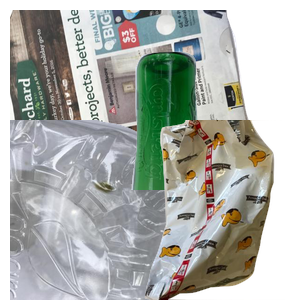glass: (129, 49, 300, 229)
paper: (10, 10, 250, 190)
plastic: (10, 120, 197, 300)
trash: (127, 120, 300, 300)
